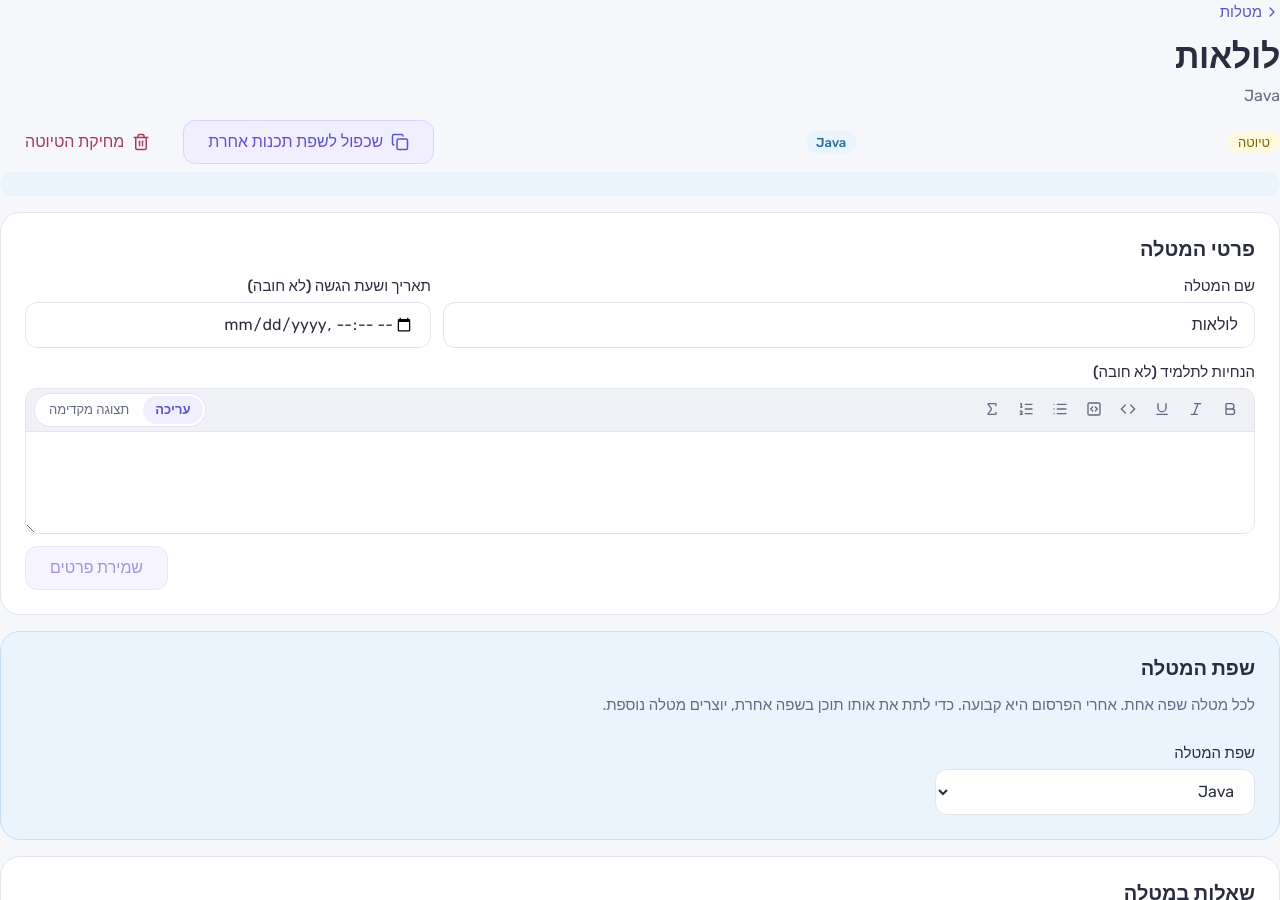
Test: C3 — clone to another programming language › clone failure shows an error and stays on the source
Click the button "שכפול לשפת תכנות אחרת": (309, 142) x1=183 y1=120 x2=434 y2=164
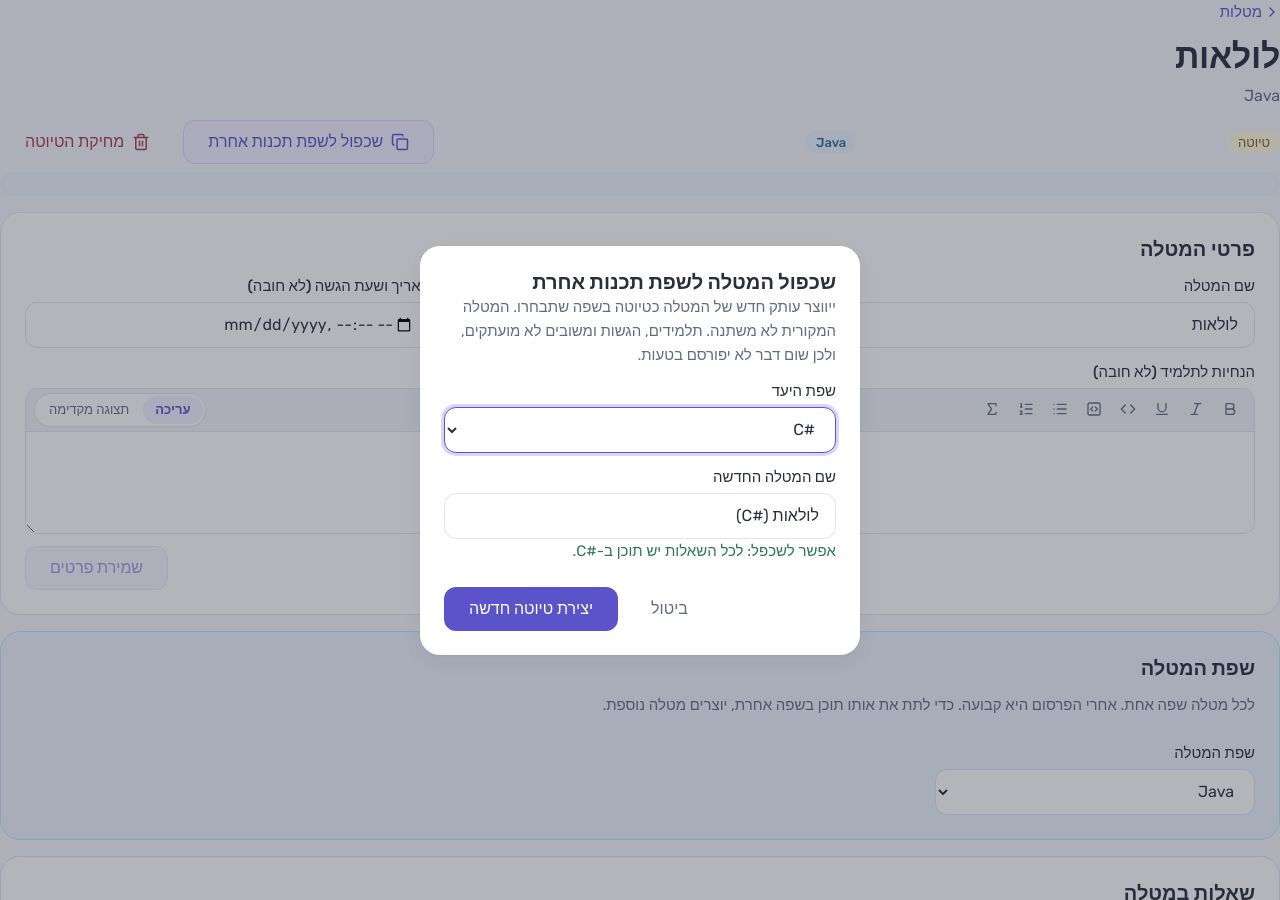
expect the text "אפשר לשכפל: לכל השאלות יש תוכן ב- C# ." is shown: met, box x1=573 y1=542 x2=836 y2=560
Click the button "יצירת טיוטה חדשה": (531, 608) x1=444 y1=586 x2=618 y2=630
(page scrolled)
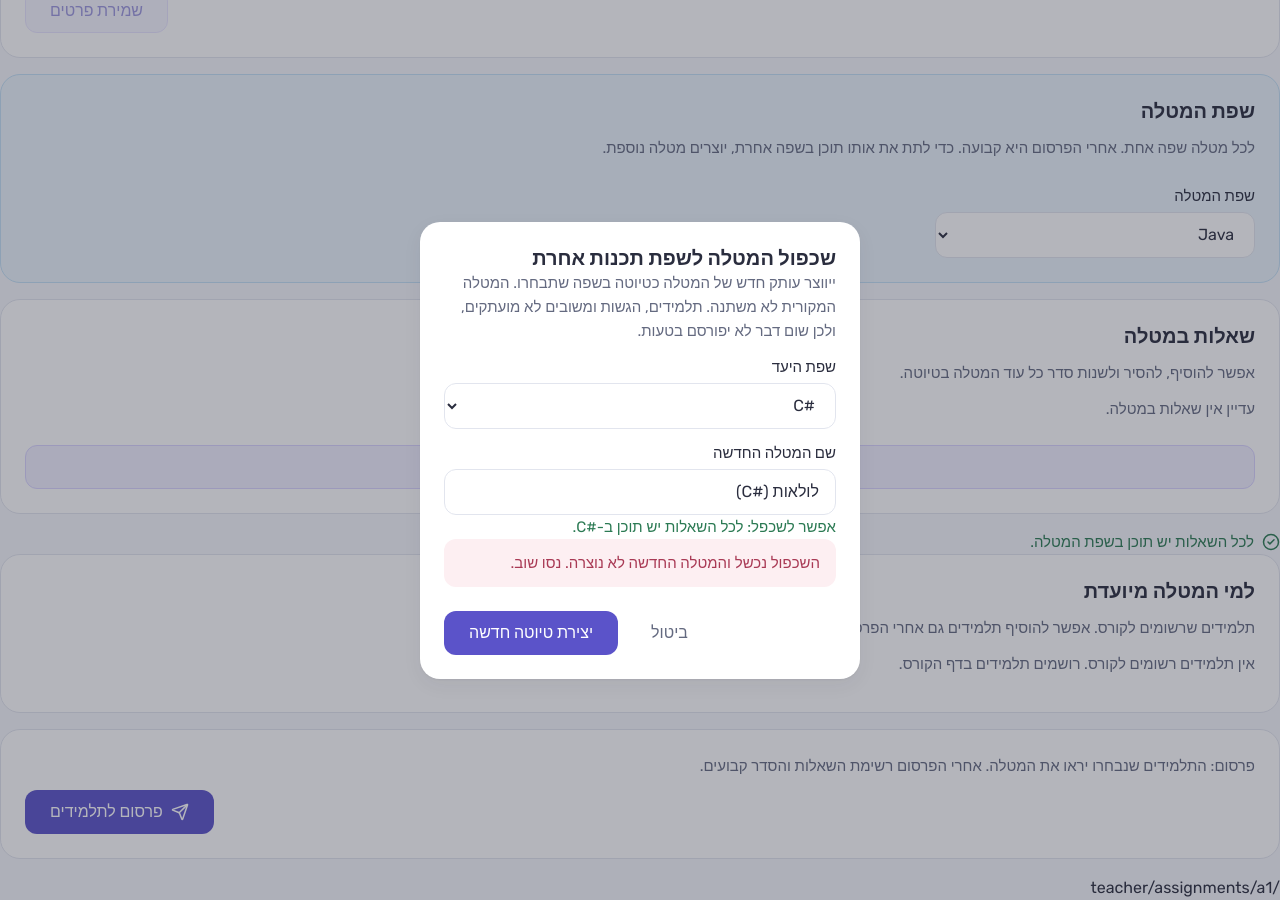
expect the text with test id "loc" reads "/teacher/assignments/a1": met, box x1=1090 y1=878 x2=1279 y2=897
expect the text "השכפול נכשל והמטלה החדשה לא נוצרה. נסו שוב." is shown: met, box x1=444 y1=538 x2=836 y2=586
